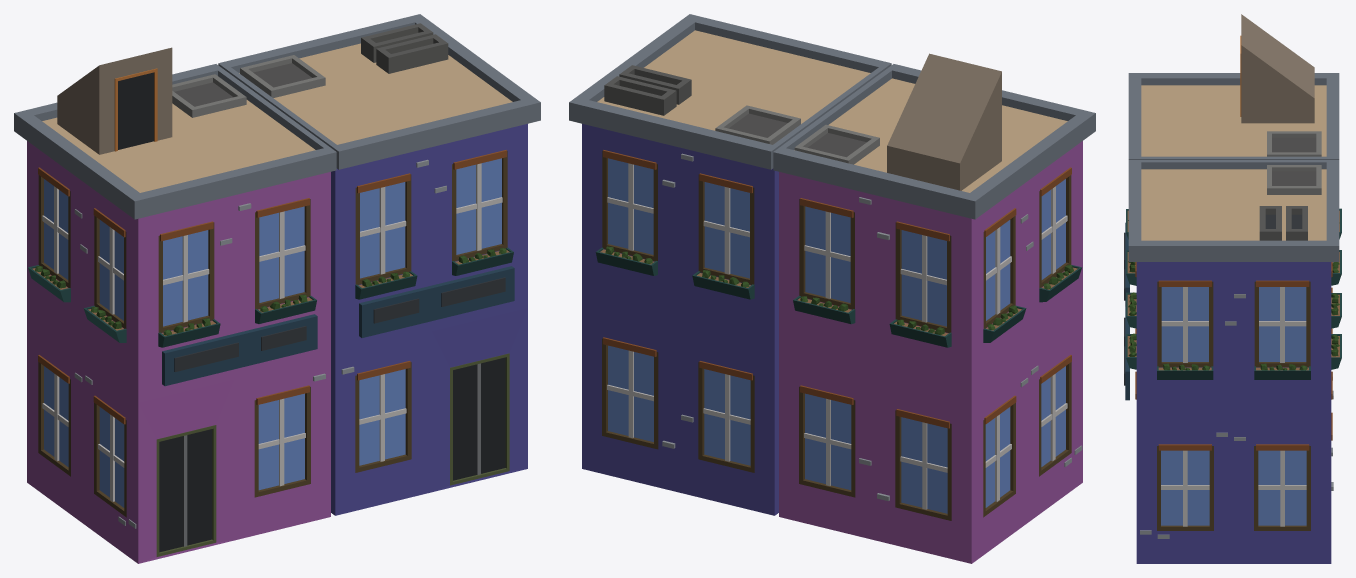
File: Building_11.fbx
3 views of the same model, side by side, from view 1: azimuth 30°, elevation 25°; view 2: azimuth 150°, elevation 25°; view 3: azimuth 270°, elevation 25° (orthographic). The views are drawn at different scales.
Parts seen in each view (by area): view 1: Building_11; view 2: Building_11; view 3: Building_11.
Boxes of the visible parts, x1=… form: Building_11: x1=14, y1=14, x2=540, y2=563; Building_11: x1=569, y1=14, x2=1095, y2=563; Building_11: x1=1124, y1=14, x2=1341, y2=563.
Size of the model in its own units: 1036 by 1083 by 545.
